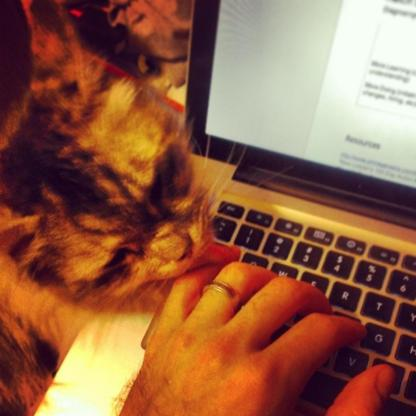board: (178, 0, 416, 415)
